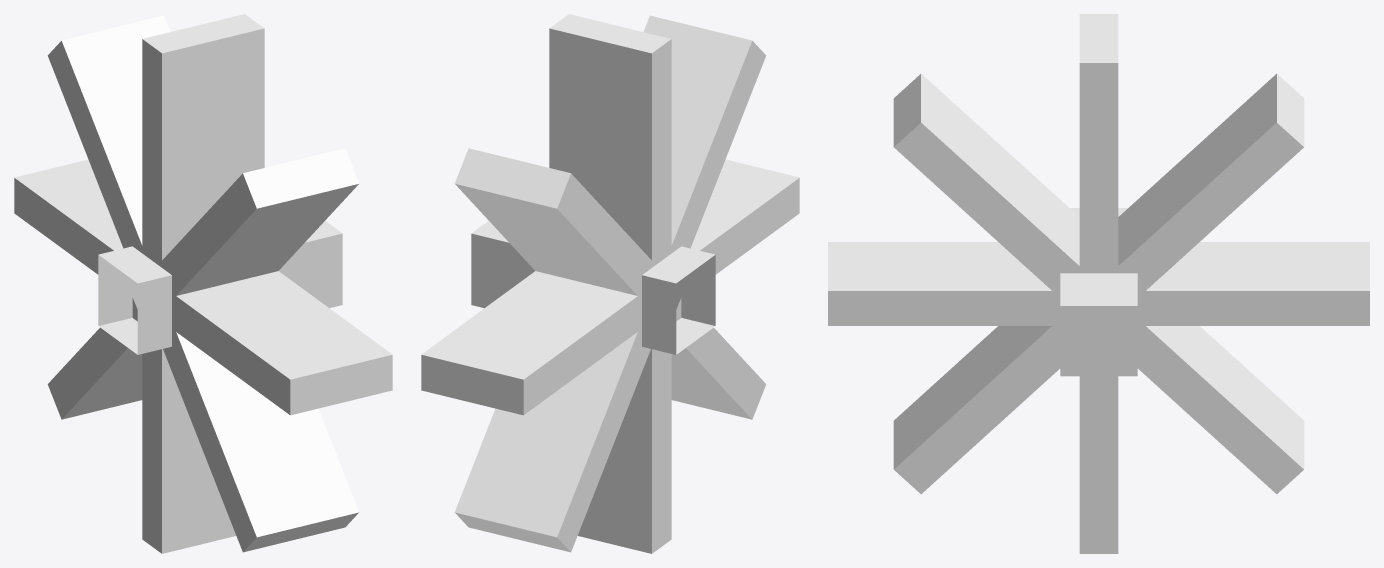
The model's file is steam_boat_right_paddle.obj.
The picture shows the model from 3 angles, left to right: view 1: azimuth 30°, elevation 25°; view 2: azimuth 150°, elevation 25°; view 3: azimuth 270°, elevation 25°; orthographic projection.
Visible parts, largest first — view 1: Right_Paddle; view 2: Right_Paddle; view 3: Right_Paddle.
Part boxes in pixels (left/top/right/bottom): Right_Paddle: left=14, top=14, right=392, bottom=553; Right_Paddle: left=421, top=14, right=799, bottom=553; Right_Paddle: left=828, top=14, right=1369, bottom=553.
Bounding box in the file's own units: 0.375 × 0.875 × 0.875.
